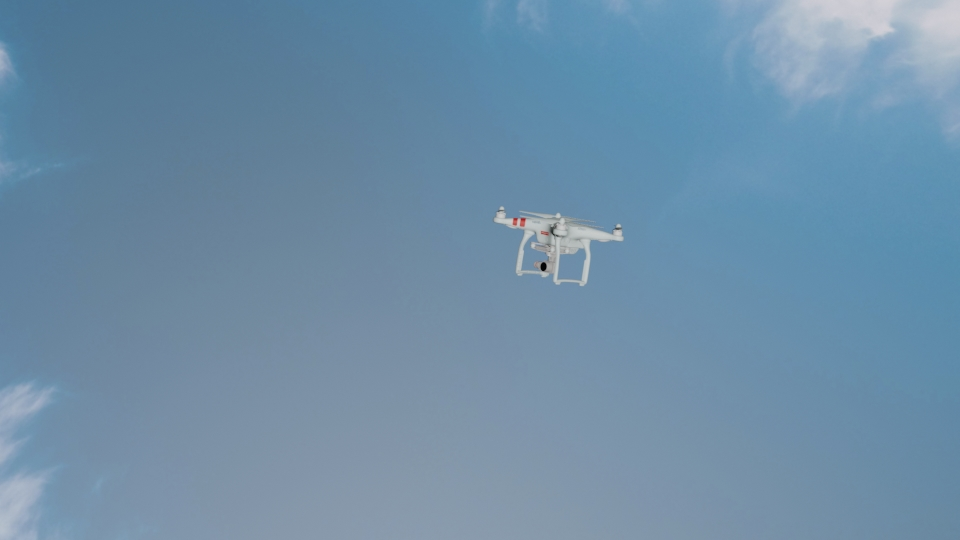drone: (485, 205, 626, 288)
